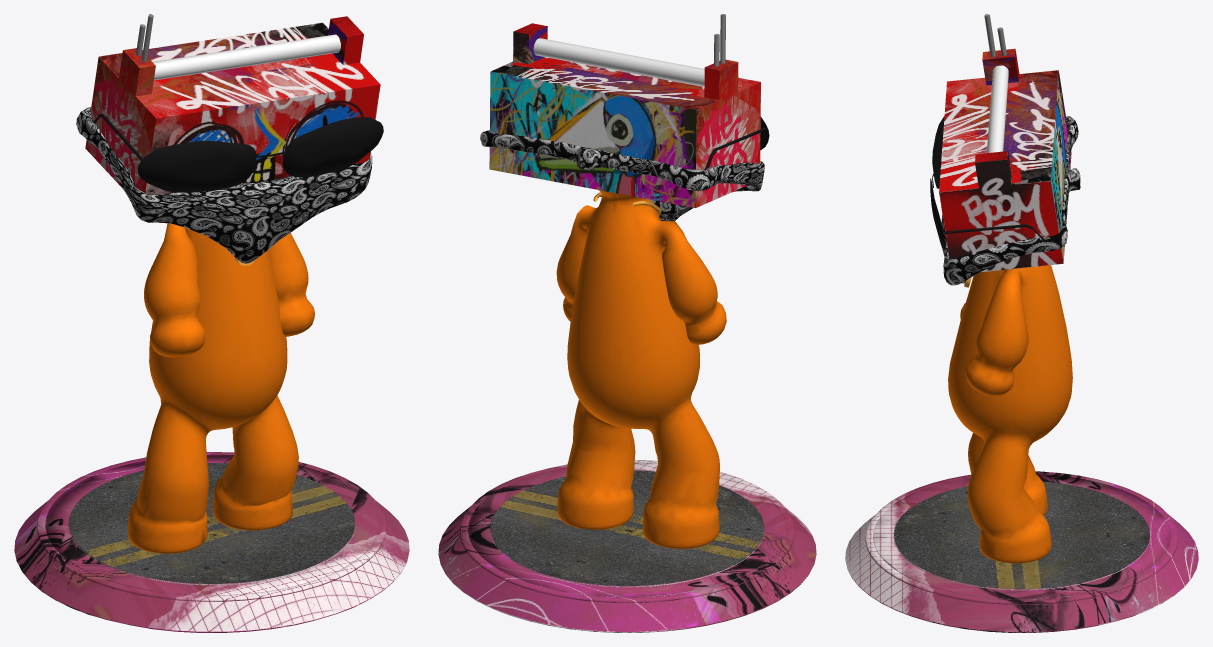
The picture shows the model from 3 angles, left to right: view 1: azimuth 30°, elevation 25°; view 2: azimuth 150°, elevation 25°; view 3: azimuth 270°, elevation 25°; orthographic projection. The views are drawn at different scales.
Visible parts, largest first — view 1: BBody; view 2: BBody; view 3: BBody.
Part boxes in pixels (box(x1,y1,x2,y2)): BBody: box(14, 14, 409, 632); BBody: box(438, 14, 816, 632); BBody: box(845, 14, 1198, 632).
Size of the model in its own units: 1.45 by 2.3 by 1.45.
Materials: 8 (5 with a texture image).
